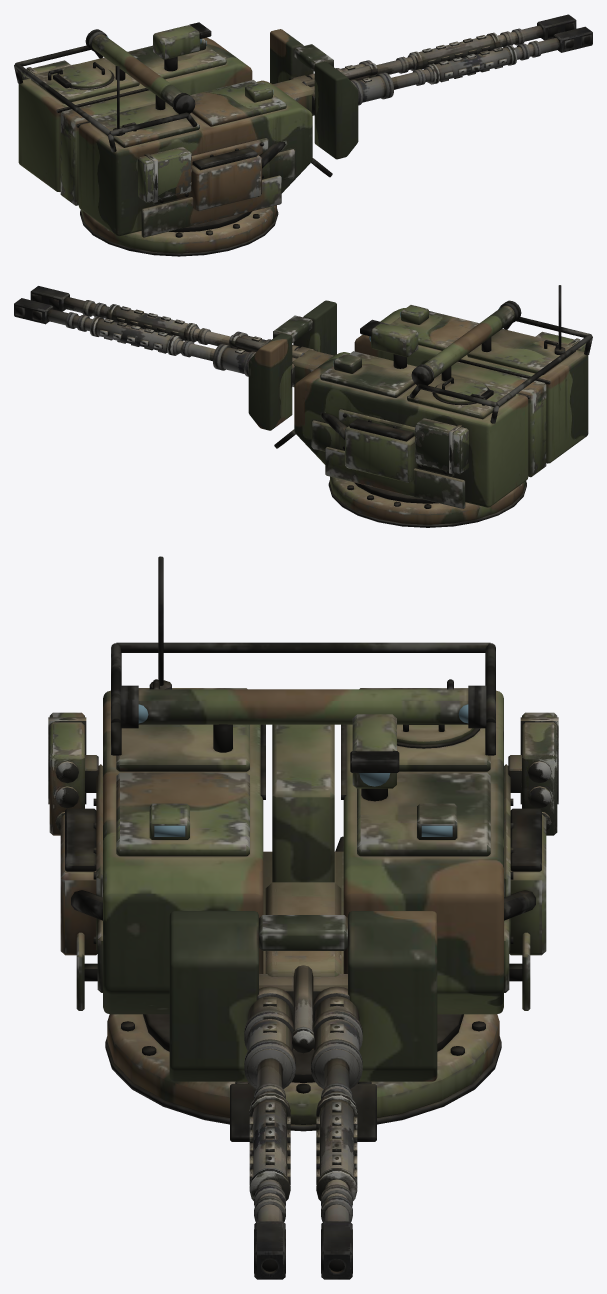
Rendered from turret_kit_t3_forest.glb.
3 views of the same model, one above another, from view 1: azimuth 30°, elevation 25°; view 2: azimuth 150°, elevation 25°; view 3: azimuth 270°, elevation 25° (orthographic). The views are drawn at different scales.
Visible parts, largest first — view 1: turret_twin_t3, guns, pods; view 2: turret_twin_t3, guns, pods; view 3: turret_twin_t3, guns, pods.
Part boxes in pixels (x1=…): turret_twin_t3: x1=14, y1=22, x2=358, y2=256; guns: x1=273, y1=14, x2=592, y2=115; pods: x1=21, y1=60, x2=191, y2=202; turret_twin_t3: x1=248, y1=285, x2=592, y2=527; guns: x1=14, y1=286, x2=333, y2=387; pods: x1=415, y1=331, x2=586, y2=474; turret_twin_t3: x1=60, y1=556, x2=546, y2=1141; guns: x1=244, y1=882, x2=362, y2=1279; pods: x1=48, y1=712, x2=558, y2=835.
Bounding box in the file's own units: 2.7 × 0.98 × 1.15.
4 materials, 3 textured.
